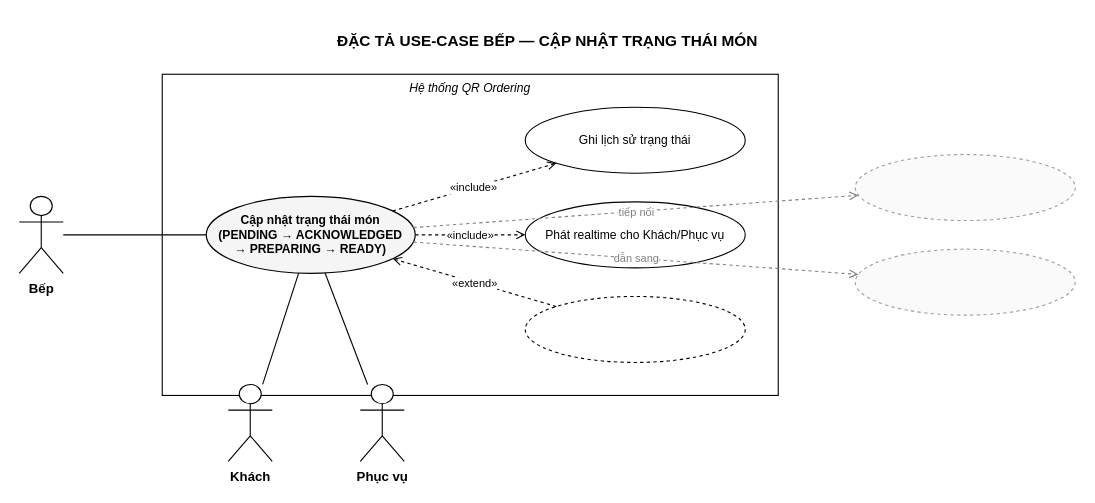
Some shapes in this 1095 by 503 pixel diagram are drawn without their labels. Each missing label, with the centre of its shape:
Bấm nhanh "cả đơn" (áp cho từng món): [634,328]
Hàng đợi món (UC-16): [964,187]
Đánh dấu đã phục vụ (UC-13): [964,281]
